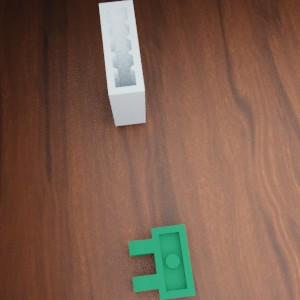lego: (98, 0, 145, 126), (128, 224, 195, 300)
